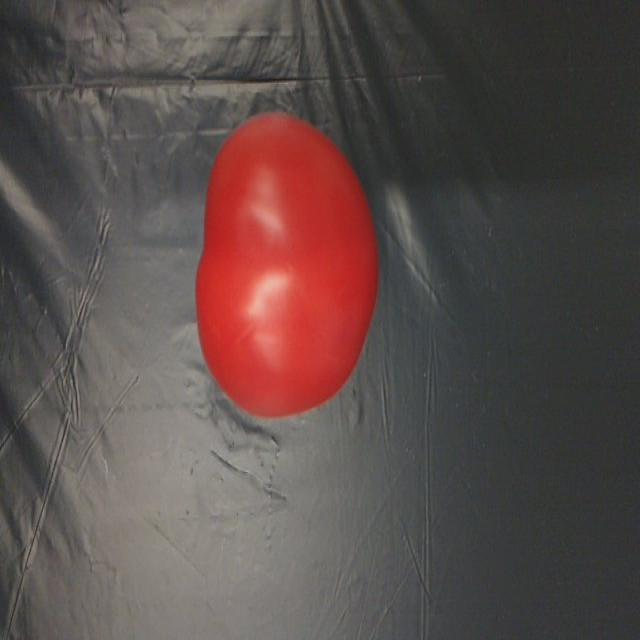kirmizi: (180, 99, 381, 423)
